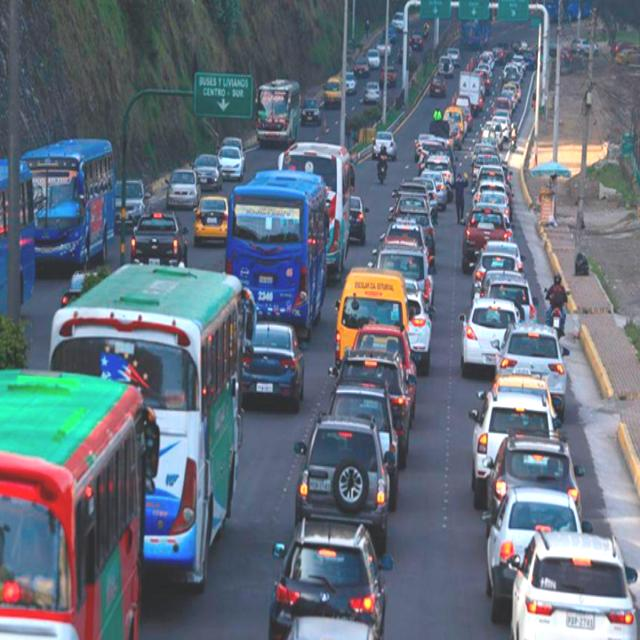BUS: (60, 273, 244, 607), (0, 378, 139, 640), (228, 179, 331, 341), (24, 141, 115, 279), (257, 84, 302, 149)
